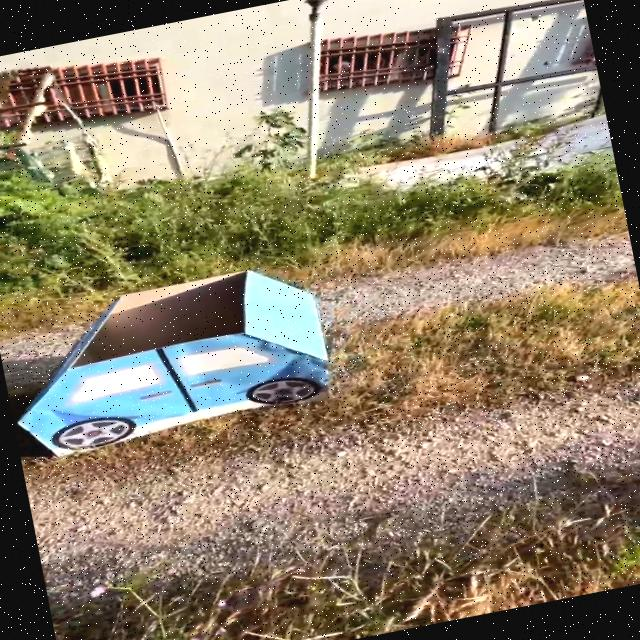blue_car: (0, 229, 375, 481)
